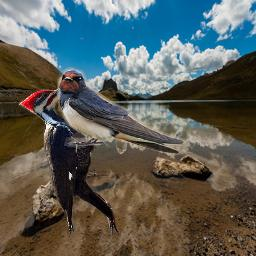Swallow: (57, 67, 223, 167)
Woodpecker: (18, 80, 119, 236)
